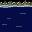Interaction: (0, 0, 32, 10)
Slow: (0, 8, 32, 32)
